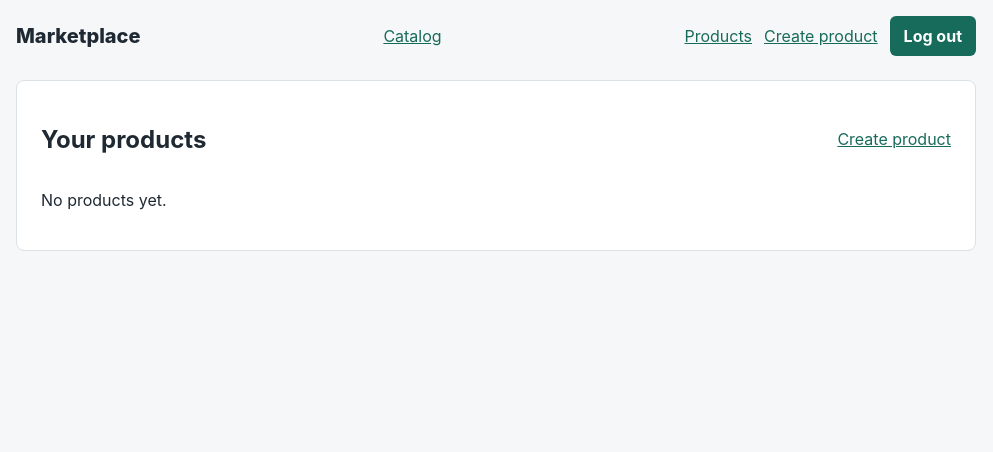
Test case: seller app › logout clears stored auth and returns to unauthenticated navigation
The image size is (993, 452).
Check: the heading "Your products" is shown, box [41, 125, 206, 154]
Click the button "Log out": click(933, 36) [890, 16, 976, 56]
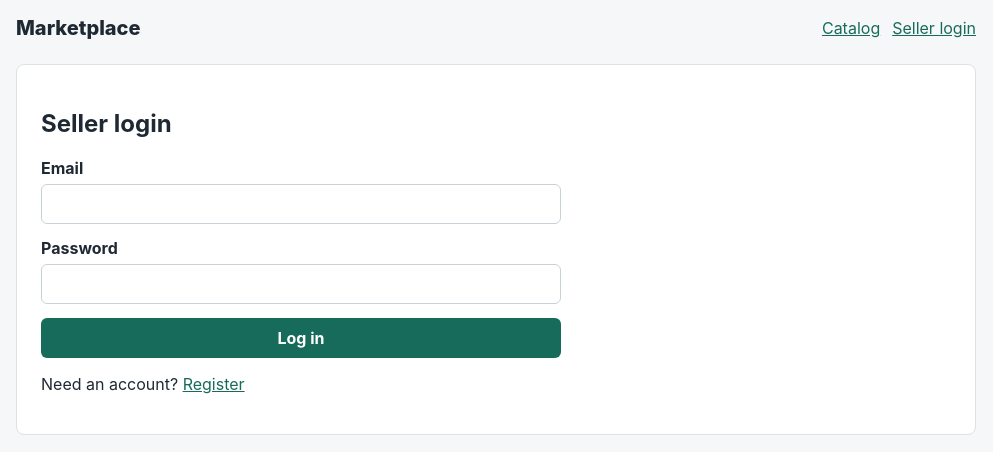
Check: the button "Log out" is gone
